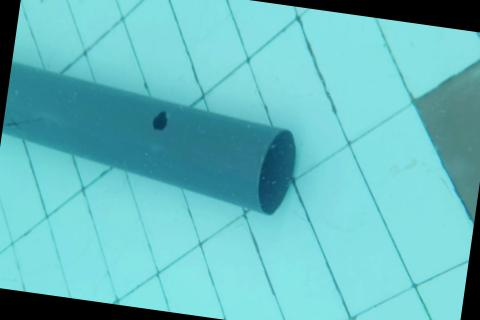kebocoran: (149, 108, 168, 132)
keretakan: (2, 111, 40, 132)
